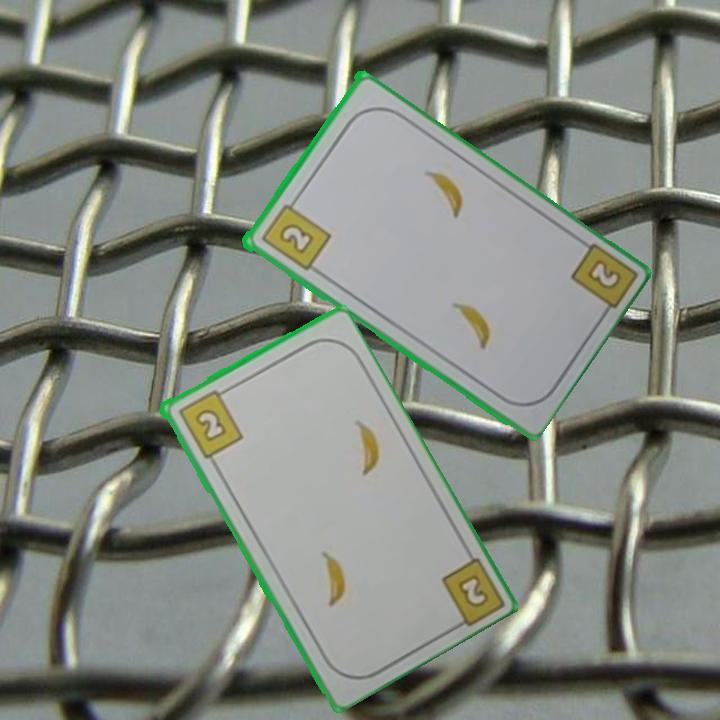2b: (257, 194, 333, 274), (174, 384, 246, 461), (453, 570, 492, 611), (583, 255, 620, 290)
